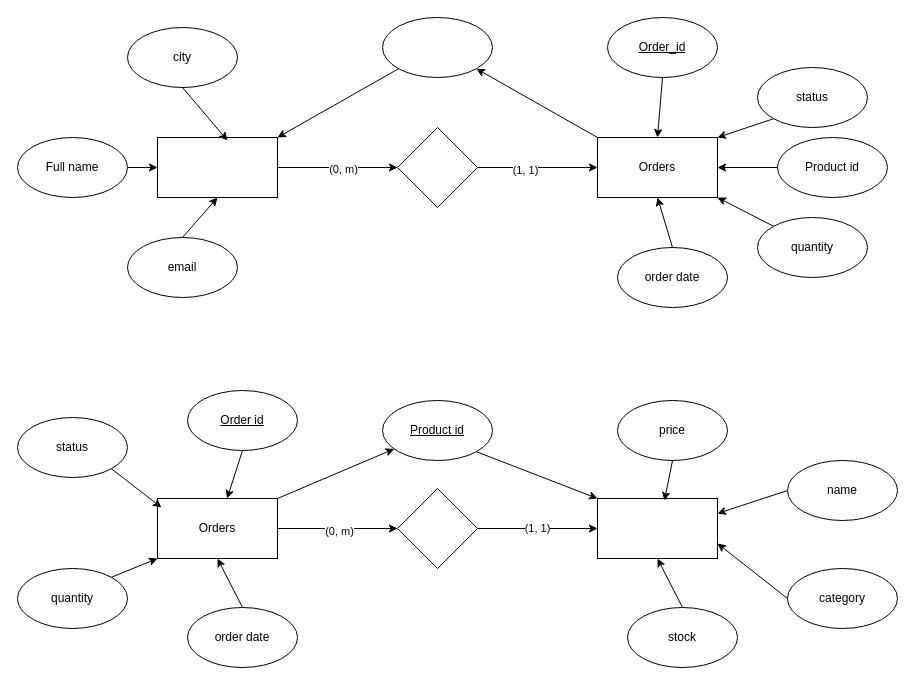
This 915x685 diagram has some shape labels left out. The shapes that lost their labels are listed below. From the top down, each one's box as (x1, y1, x2, y2) in pixels, then its label:
(382, 16, 492, 78): Customer_id
(156, 136, 278, 198): Customers
(396, 126, 478, 208): places
(396, 488, 478, 568): has
(596, 498, 718, 558): Products
